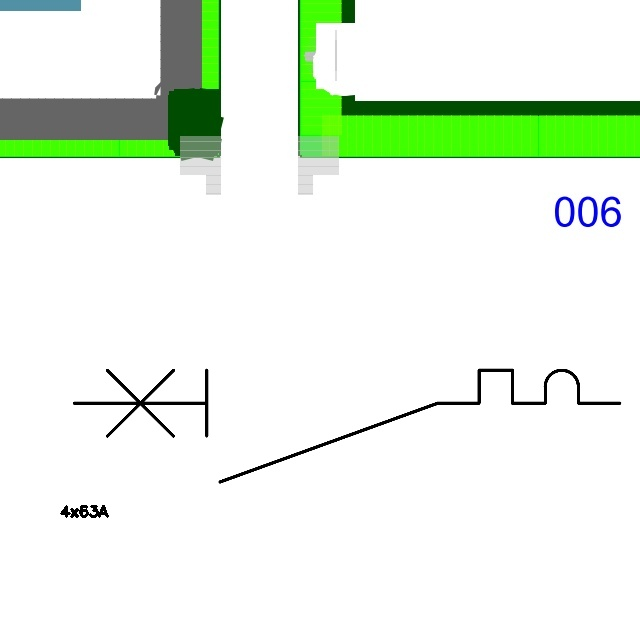interruptor_termomagnetico: (60, 356, 634, 496)
